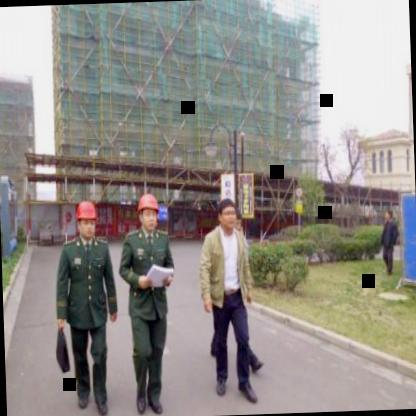helmet: (134, 192, 162, 233), (76, 198, 98, 240)
